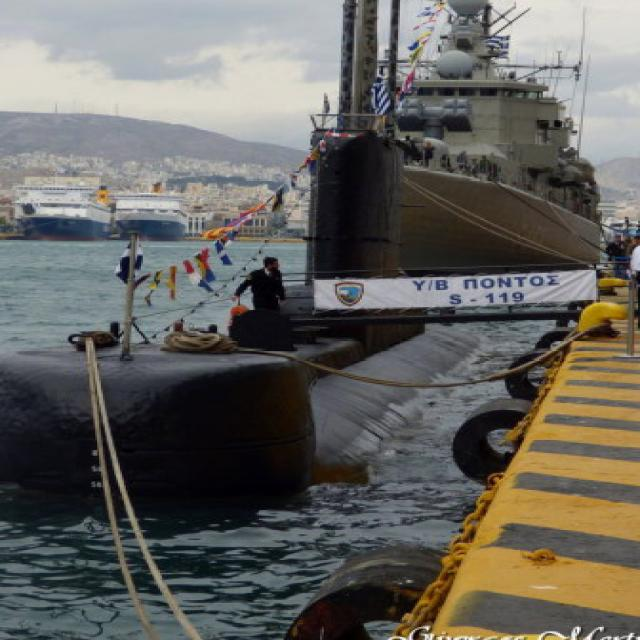submarine: (1, 309, 494, 486)
